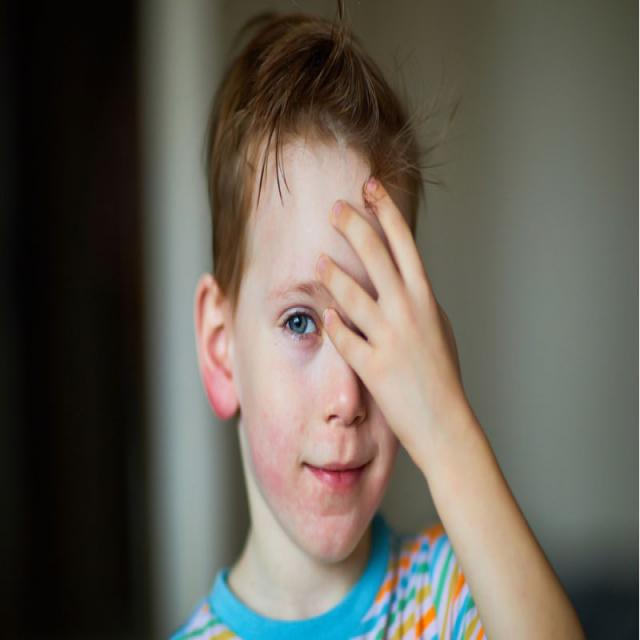hives: (247, 393, 398, 568)
